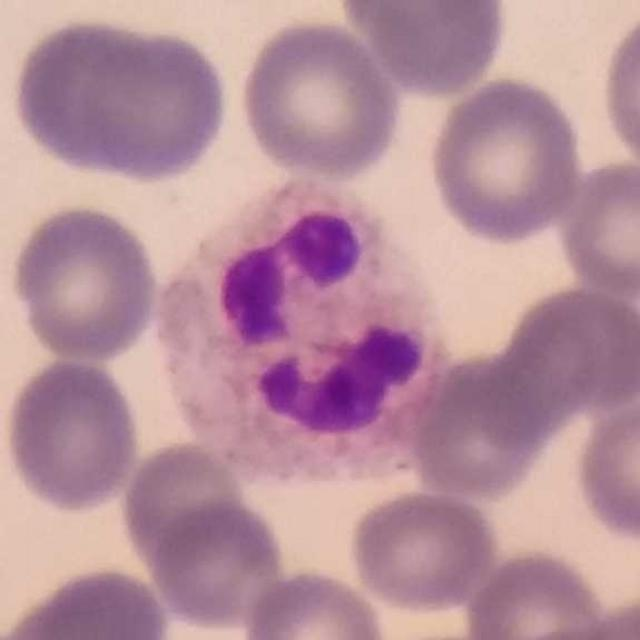Neutrophil: (163, 184, 456, 468)
RBC: (6, 10, 236, 186), (233, 15, 405, 184), (425, 72, 588, 247), (5, 200, 164, 364), (1, 354, 145, 516), (408, 352, 554, 503), (494, 282, 640, 424), (344, 486, 502, 616), (143, 493, 290, 632), (338, 0, 514, 99), (461, 545, 611, 640), (3, 563, 176, 640), (553, 156, 640, 302), (240, 565, 391, 640), (571, 388, 640, 548), (596, 3, 640, 181), (333, 1, 502, 44), (502, 620, 636, 640)
